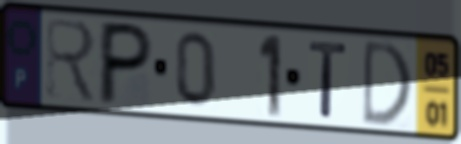0: (173, 29, 220, 111)
1: (256, 31, 284, 120)
D: (359, 36, 414, 129)
P: (95, 18, 156, 108)
R: (43, 14, 100, 107)
T: (306, 37, 351, 121)
